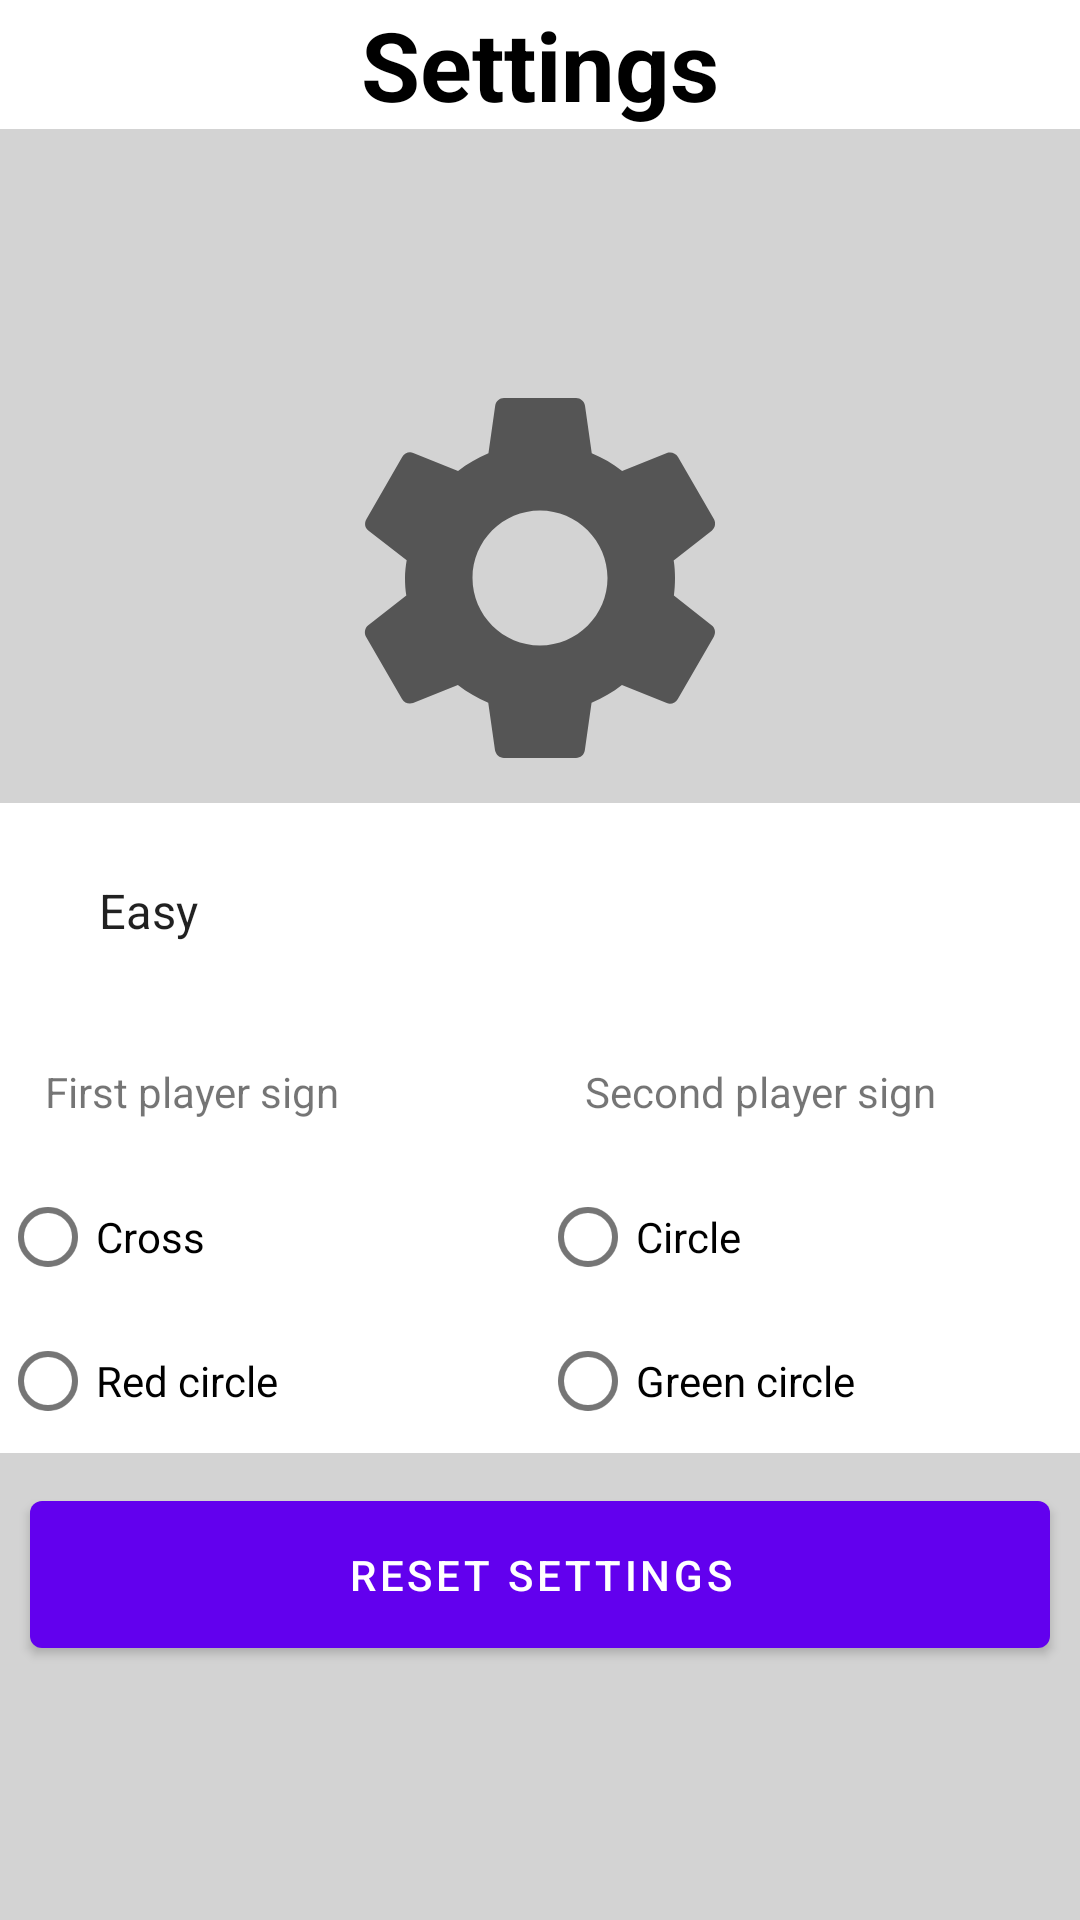

Where icons sit on this 1080*1920 app screen, as (x1, y1, x2, y2):
settings: (365, 398, 715, 758)
